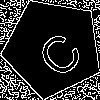C: (27, 22, 87, 81)
